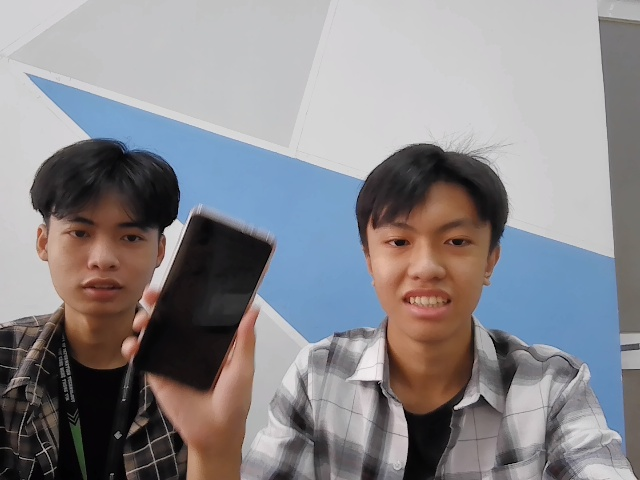human: (347, 138, 502, 333), (40, 138, 165, 318)
phone: (138, 209, 278, 398)
